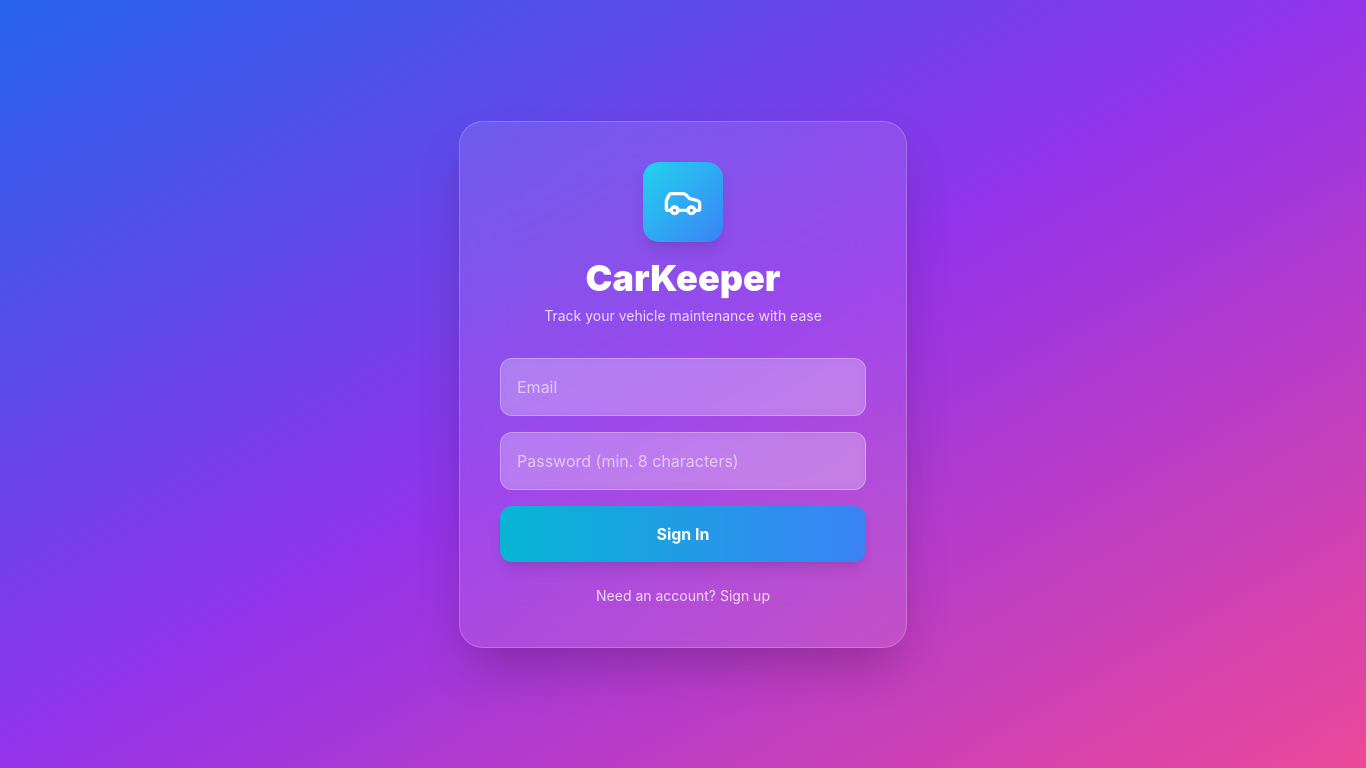
Test: authentication › signs in and loads the garage
Step 1. Type "a@b.com" into the field with placeholder "Email" → (683, 386), box [500, 358, 866, 416]
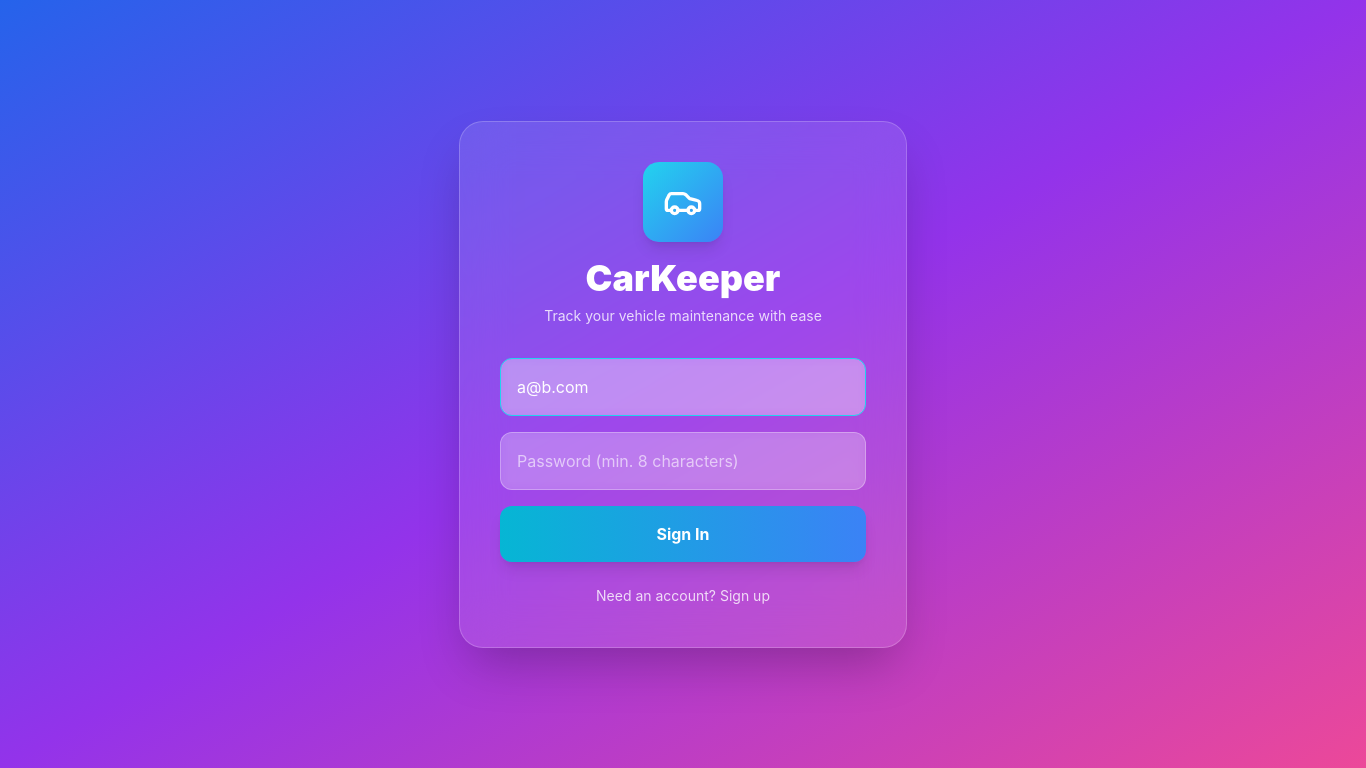
Step 2. Type "password123" into the password field with placeholder "Password (min. 8 characters)" → (683, 460), box [500, 432, 866, 490]
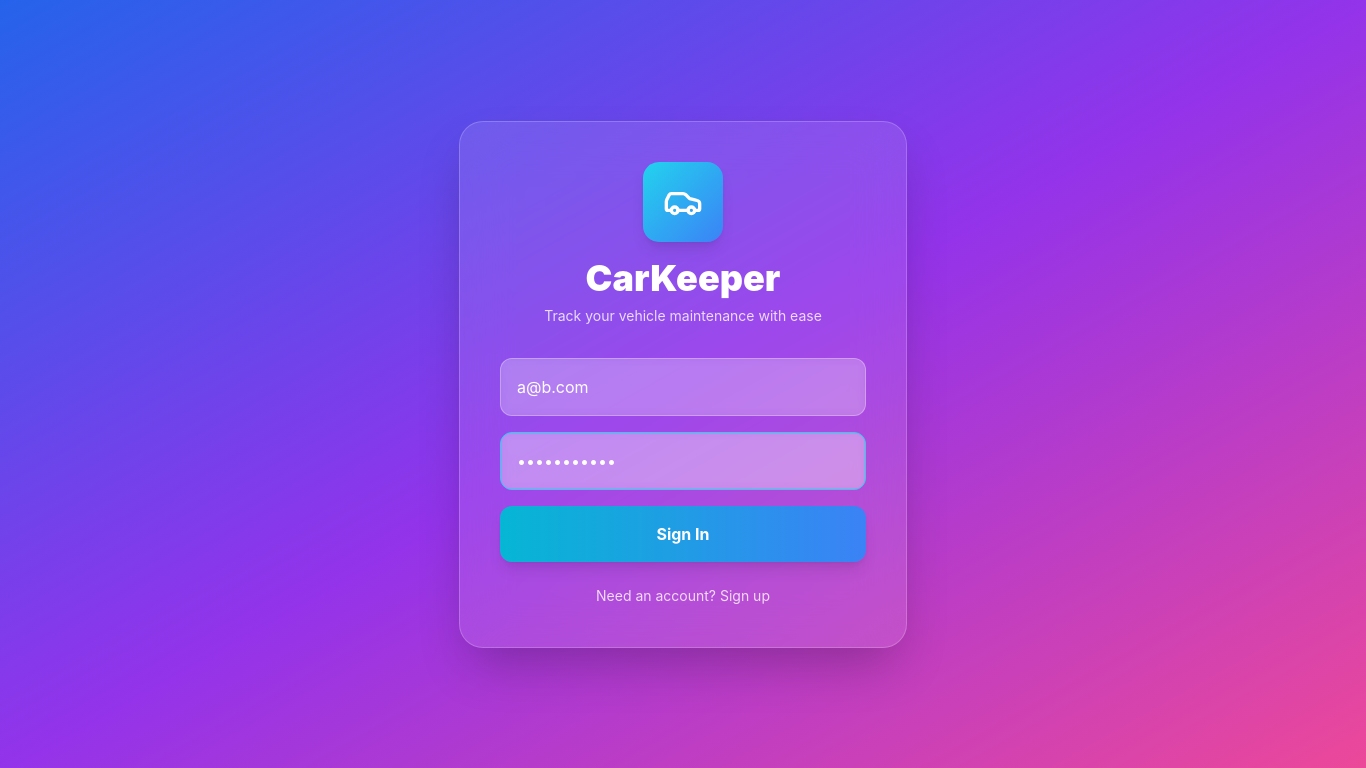
Step 3. Click the button "Sign In" → (683, 534), box [500, 506, 866, 562]
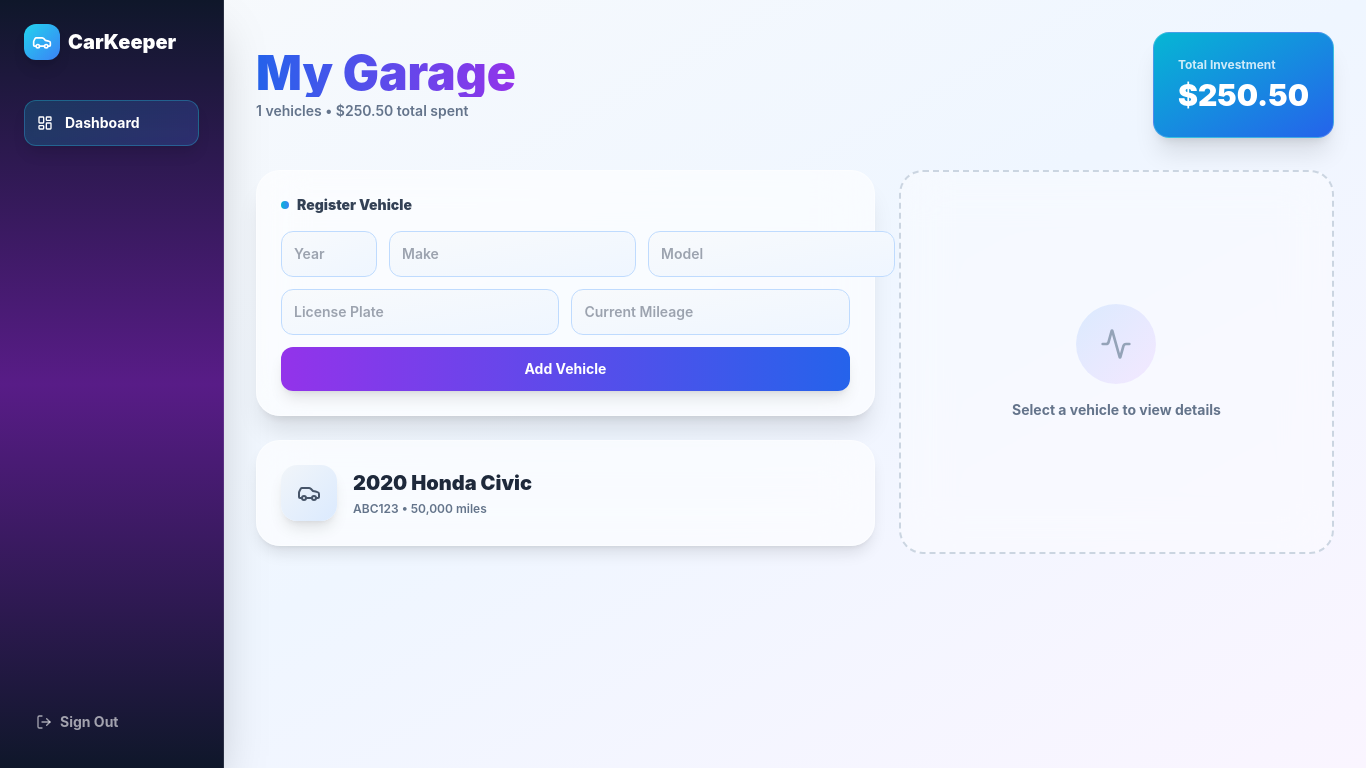
Expected: the heading "My Garage" is shown, [256, 49, 516, 97]
Expected: the heading "2020 Honda Civic" is shown, [353, 469, 532, 497]
